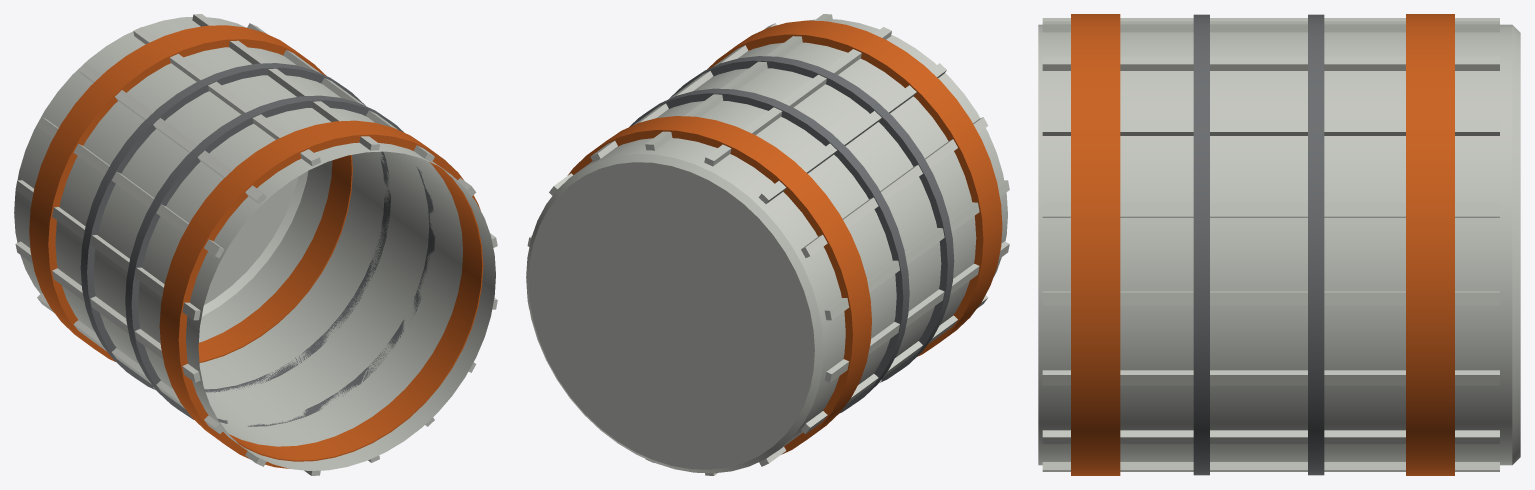
File: u33_housing.obj
The picture shows the model from 3 angles, left to right: view 1: azimuth 30°, elevation 25°; view 2: azimuth 150°, elevation 25°; view 3: azimuth 270°, elevation 25°; orthographic projection. The views are drawn at different scales.
Parts seen in each view (by area): view 1: u33_housing; view 2: u33_housing; view 3: u33_housing.
Part boxes in pixels (box(x1,y1,x2,y2)): u33_housing: box(14, 14, 497, 475); u33_housing: box(526, 14, 1009, 475); u33_housing: box(1038, 14, 1520, 475).
Bounding box in the file's own units: 2.83 × 2.83 × 2.95.
